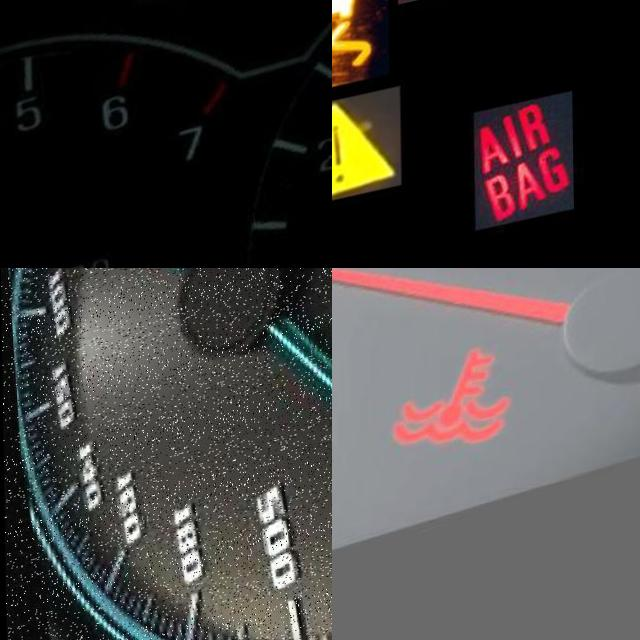Central Warning lamp: (332, 97, 399, 217)
Engine cooling system: (390, 360, 516, 488)
